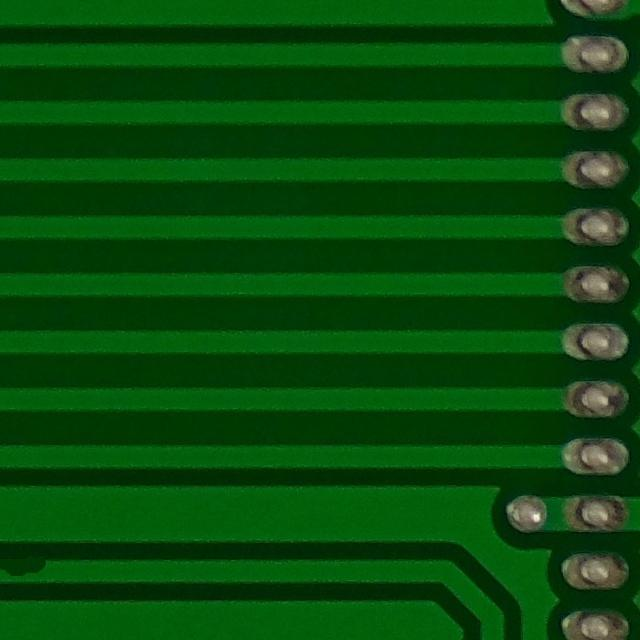mouse_bite: (0, 547, 63, 586)
